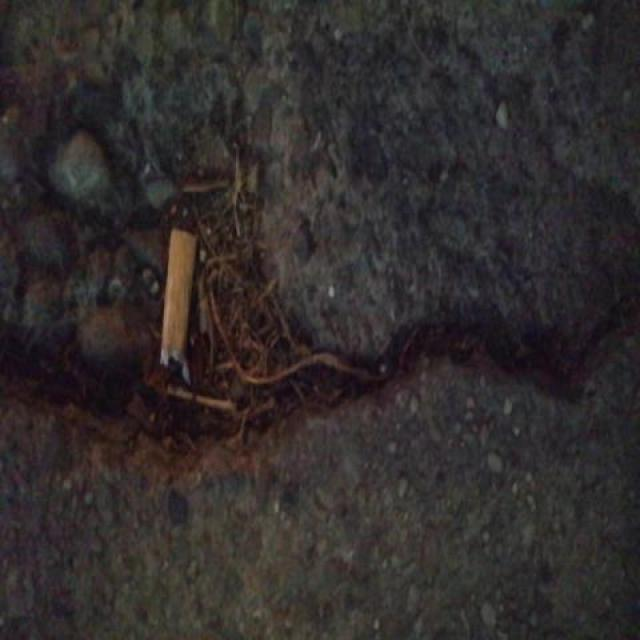non-organic waste: (157, 224, 202, 388)
